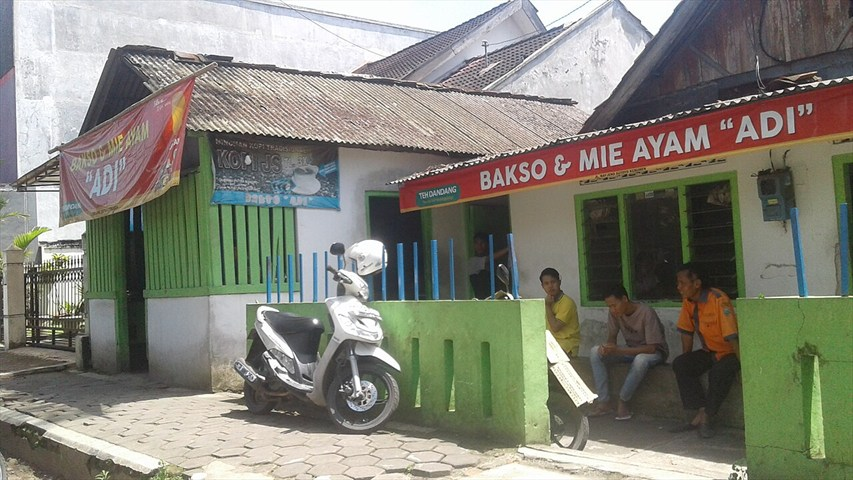Bakso: (34, 39, 771, 449)
